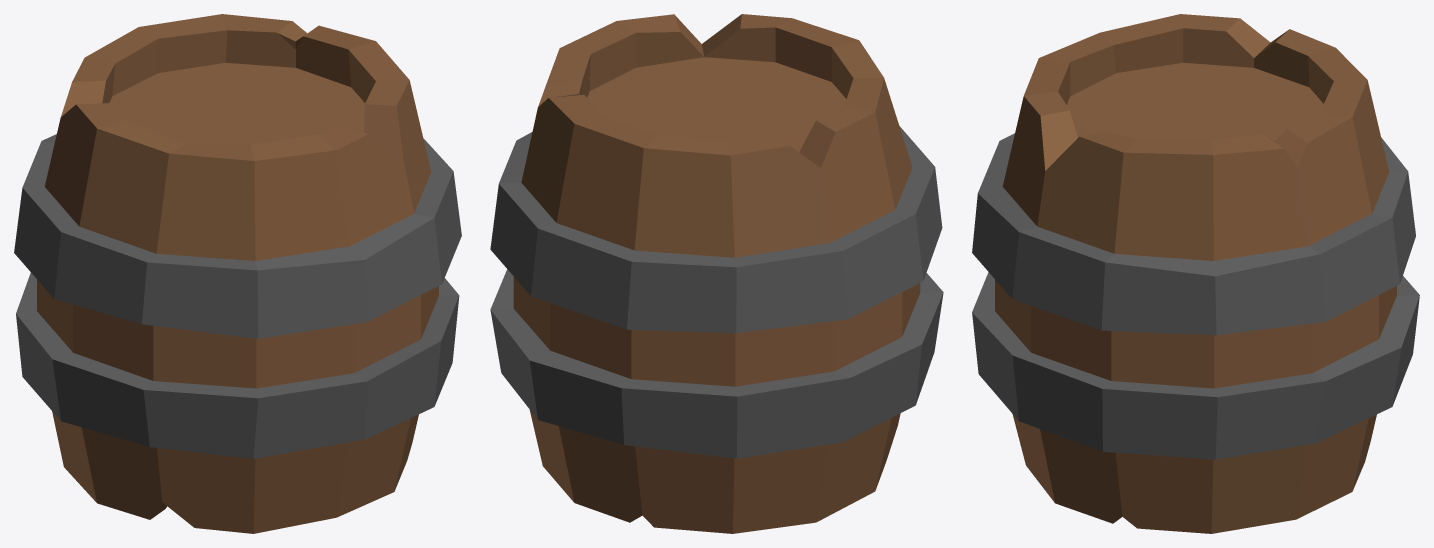
Rendered from barrel.glb.
3 views of the same model, side by side, from view 1: azimuth 30°, elevation 25°; view 2: azimuth 150°, elevation 25°; view 3: azimuth 270°, elevation 25° (orthographic).
Visible parts, largest first — view 1: Barrel.002; view 2: Barrel.002; view 3: Barrel.002.
Boxes of the visible parts, x1,y1,x2,y2 form: Barrel.002: [14, 14, 461, 533]; Barrel.002: [490, 14, 943, 533]; Barrel.002: [972, 14, 1419, 533].
Size of the model in its own units: 1.3 by 1.21 by 1.3.
